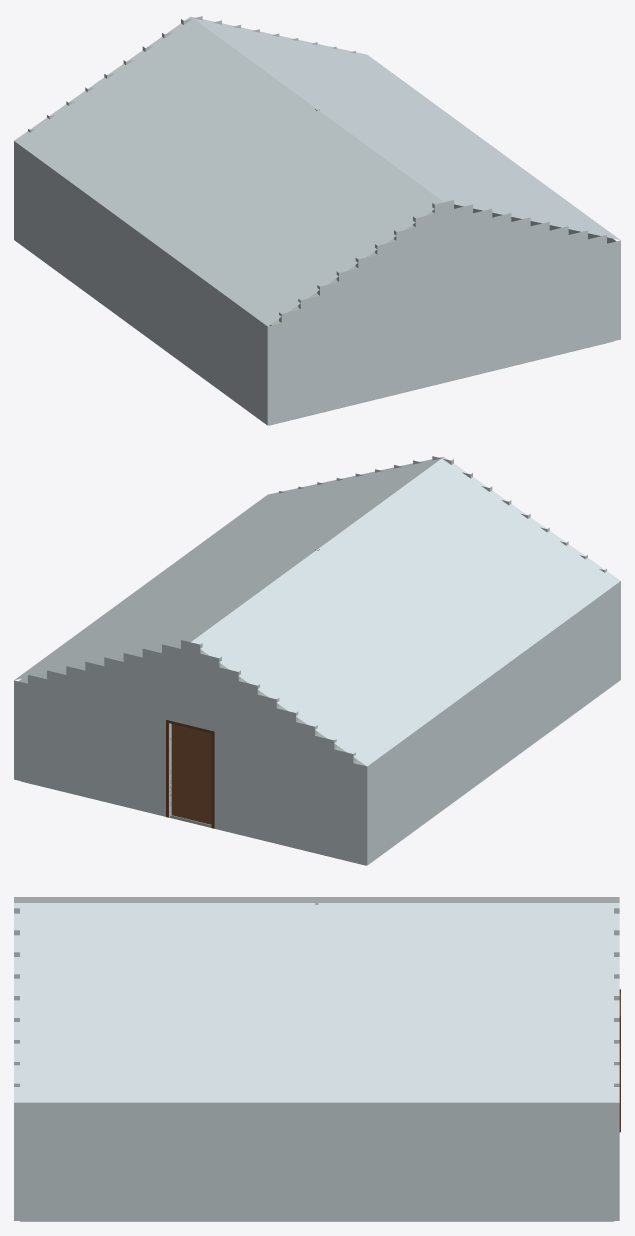
The model's file is room_bath_attic.glb.
The picture shows the model from 3 angles, top to bottom: view 1: azimuth 30°, elevation 25°; view 2: azimuth 150°, elevation 25°; view 3: azimuth 270°, elevation 25°; orthographic projection. The views are drawn at different scales.
Visible parts, largest first — view 1: CEILING, WALLS; view 2: CEILING, WALLS, DOOR_corridor, FRAMES; view 3: CEILING, WALLS, FLOOR_visible.
Part boxes in pixels (x1,y1,x2,y2): CEILING: (14, 16, 620, 326); WALLS: (14, 16, 620, 425); CEILING: (14, 456, 620, 766); WALLS: (14, 456, 620, 865); DOOR_corridor: (172, 724, 211, 824); FRAMES: (166, 720, 214, 828); CEILING: (14, 897, 619, 1102); WALLS: (14, 908, 619, 1220); FLOOR_visible: (20, 1221, 613, 1221).
Size of the model in its own units: 8.2 by 4.06 by 10.22.
